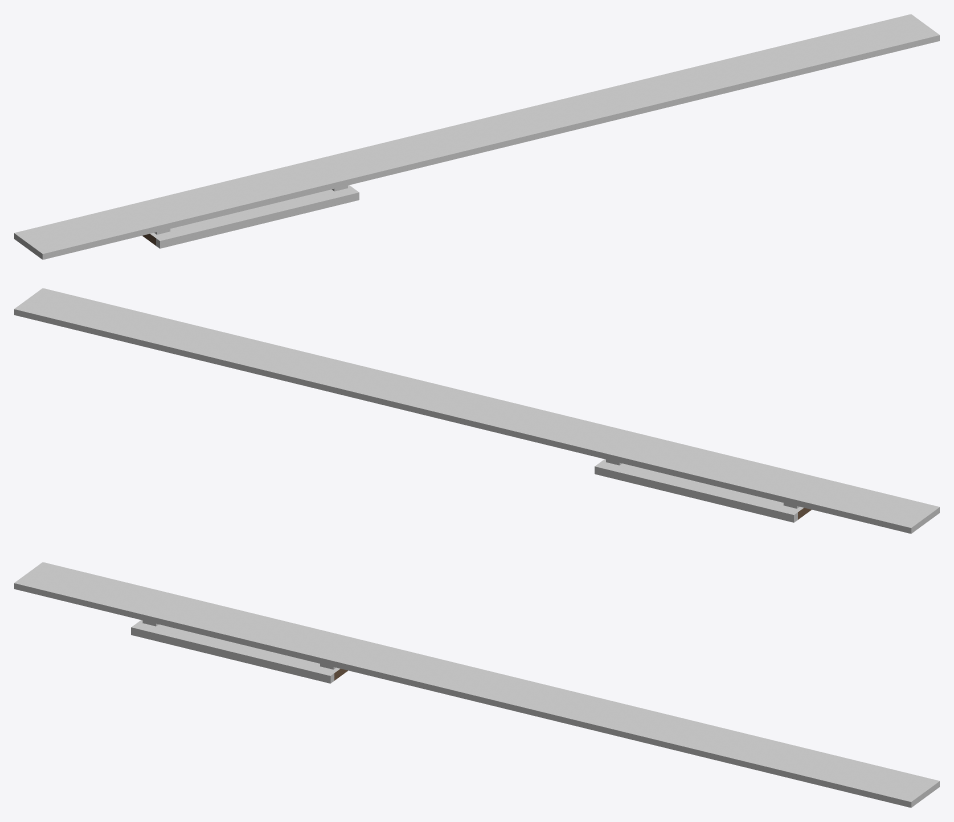
The model's file is Decor_OverHeadLights.fbx.
The picture shows the model from 3 angles, top to bottom: view 1: azimuth 30°, elevation 25°; view 2: azimuth 150°, elevation 25°; view 3: azimuth 330°, elevation 25°; orthographic projection.
Visible parts, largest first — view 1: Decor_OverheadBeam, Decor_OverheadLight; view 2: Decor_OverheadBeam, Decor_OverheadLight; view 3: Decor_OverheadBeam, Decor_OverheadLight.
Boxes of the visible parts, x1,y1,x2,y2 form: Decor_OverheadBeam: [14, 14, 939, 259]; Decor_OverheadLight: [142, 185, 359, 248]; Decor_OverheadBeam: [14, 288, 939, 533]; Decor_OverheadLight: [594, 459, 811, 522]; Decor_OverheadBeam: [14, 562, 939, 807]; Decor_OverheadLight: [131, 620, 347, 683].
Bounding box in the file's own units: 1800 × 44.67 × 100.
